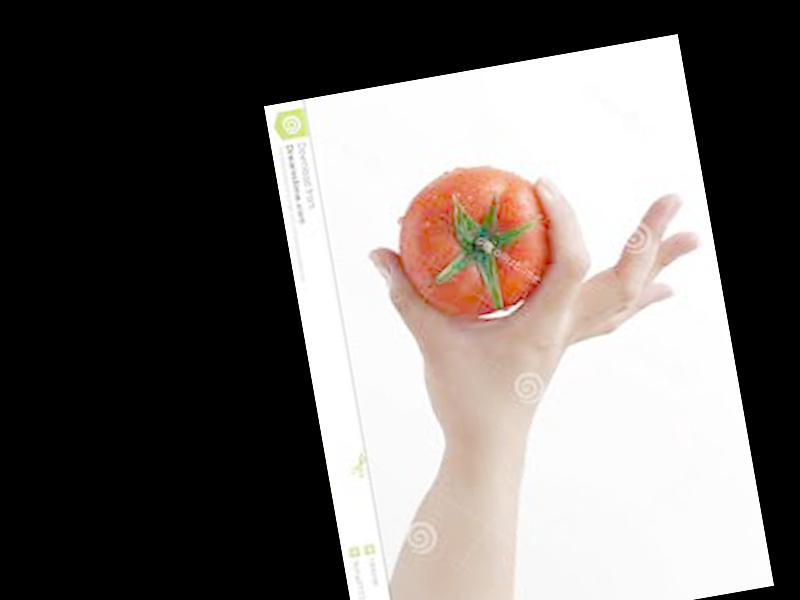Tomato: (387, 154, 564, 327)
